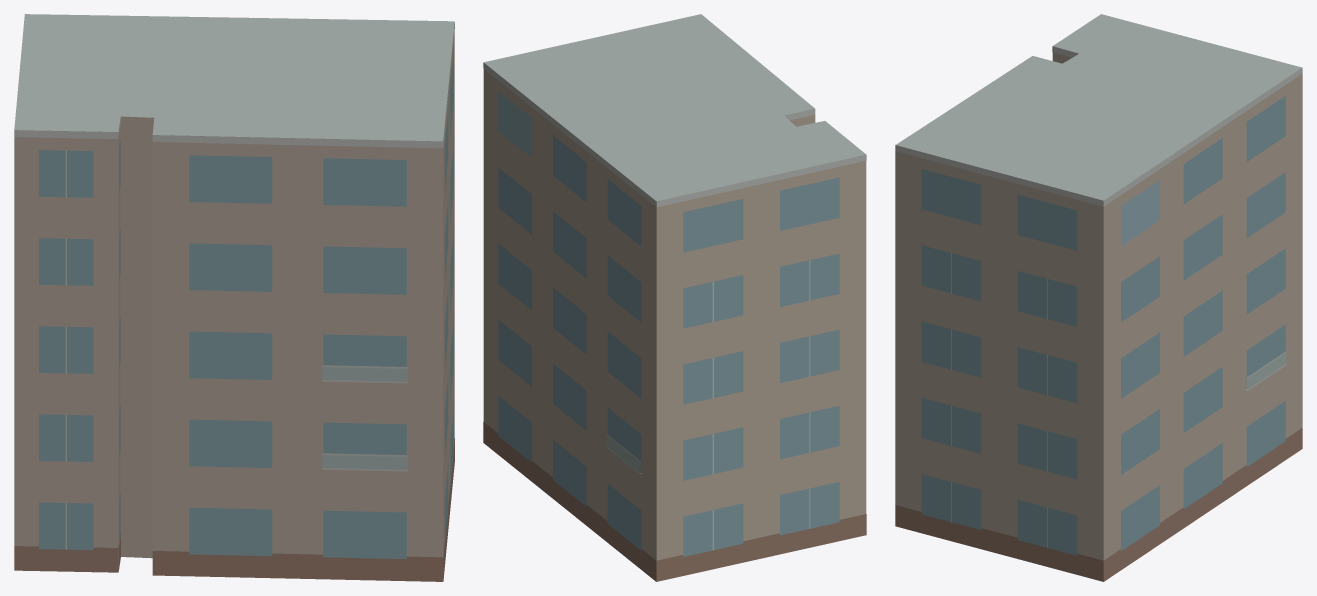
The model's file is survey-upis-32880182.glb.
The picture shows the model from 3 angles, left to right: view 1: azimuth 30°, elevation 25°; view 2: azimuth 150°, elevation 25°; view 3: azimuth 270°, elevation 25°; orthographic projection. The views are drawn at different scales.
Parts seen in each view (by area): view 1: survey-upis-32880182.tmp; view 2: survey-upis-32880182.tmp; view 3: survey-upis-32880182.tmp.
Boxes of the visible parts, left/top/right/bottom form: survey-upis-32880182.tmp: left=14, top=14, right=454, bottom=581; survey-upis-32880182.tmp: left=483, top=14, right=866, bottom=581; survey-upis-32880182.tmp: left=895, top=14, right=1302, bottom=581.
Bounding box in the file's own units: 16.12 × 15.35 × 14.86.
